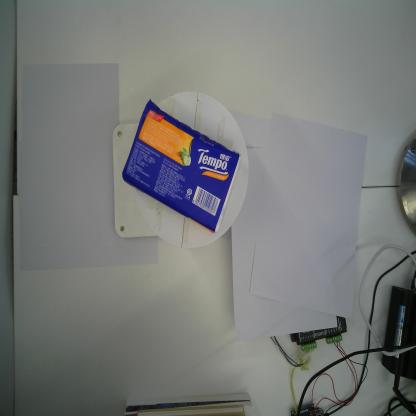Tissue: (121, 97, 244, 237)
